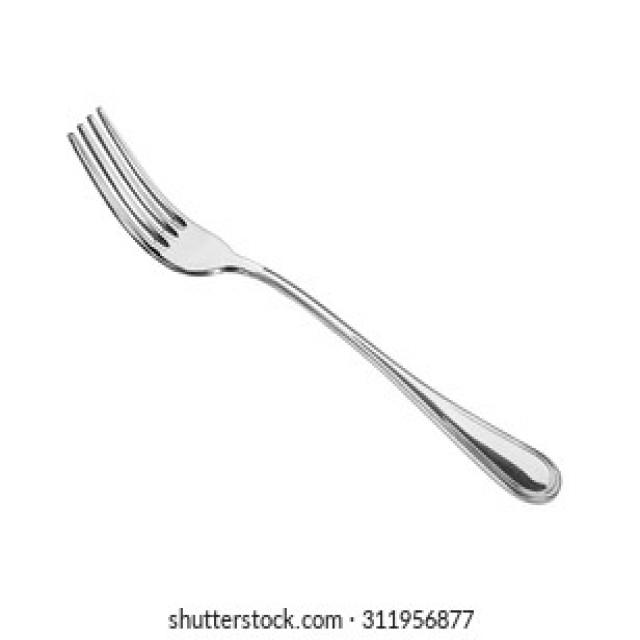fork: (64, 96, 571, 506)
